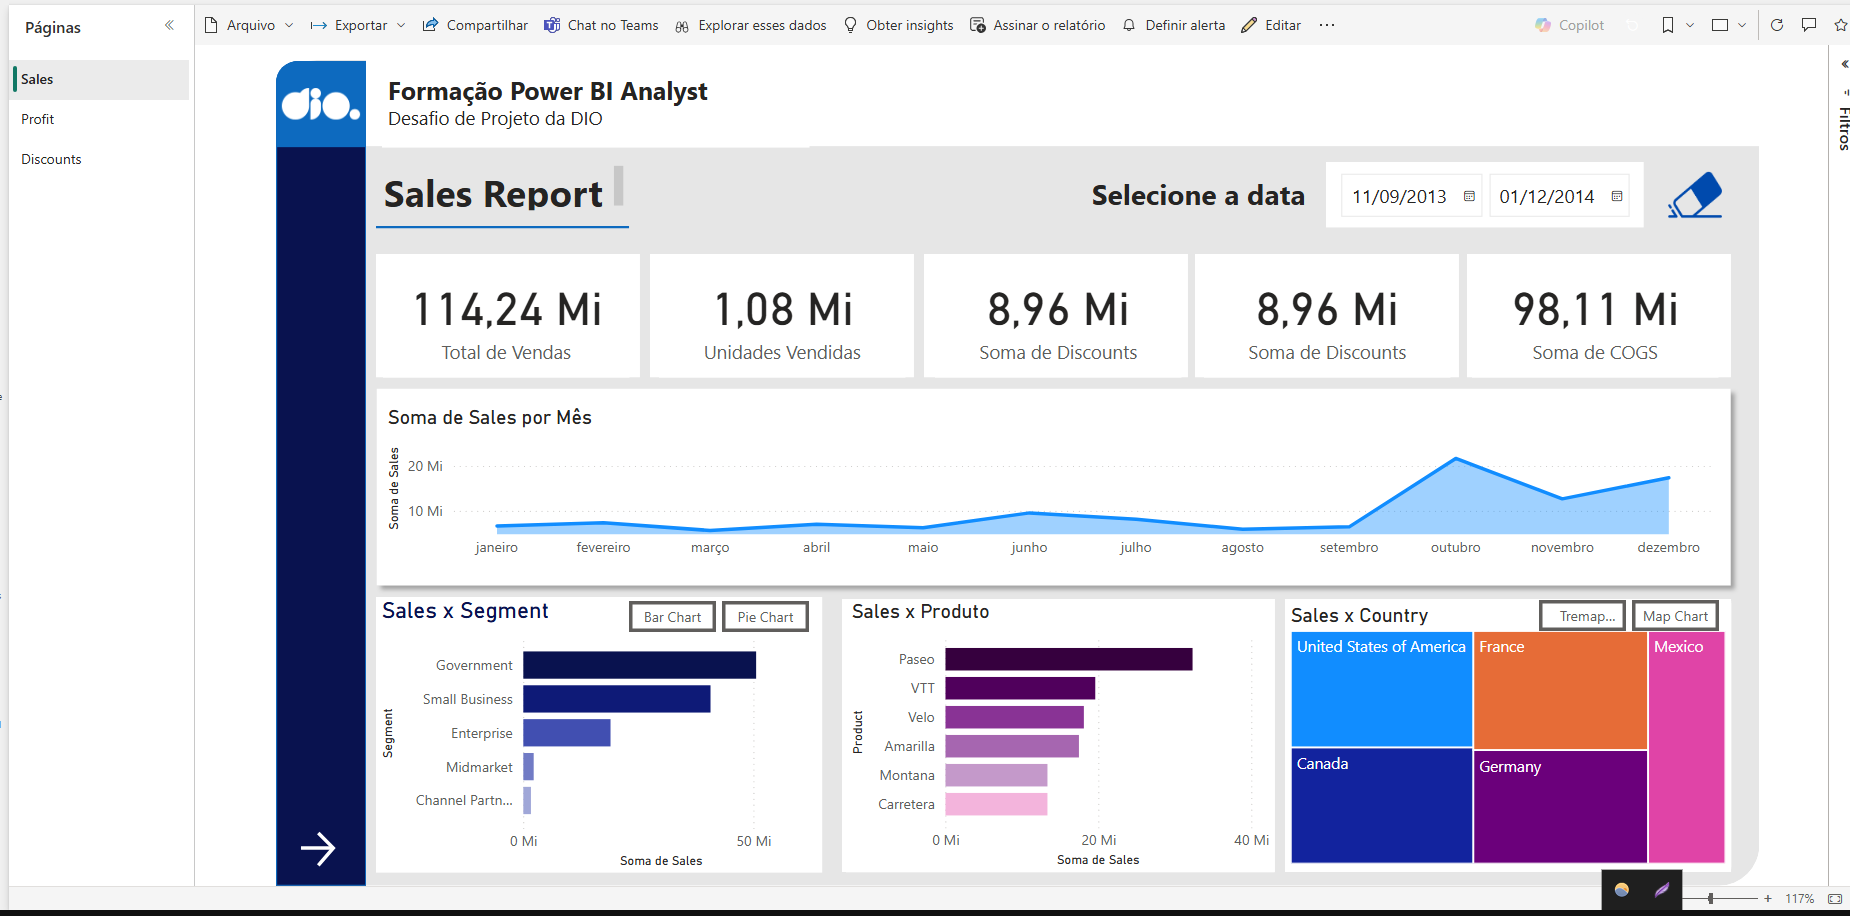

Layout of this report page (visuals, bound fields, positions):
{"tool":"powerbi","page":{"name":"Sales","canvas":[1280,720],"ordinal":0},"visuals":[{"type":"shape","box":[10,12.8,1270,707],"z":0},{"type":"slicer","fields":{"Values":["financials.Date"]},"box":[909.4,99.8,272.2,55.6],"z":0,"group":"g2"},{"type":"shape","box":[95.5,139.7,216.7,32.8],"z":0,"group":"g5"},{"type":"shape","box":[95.5,179.2,226.5,105.7],"z":0,"group":"g1"},{"type":"map","title":"Sales x Country","fields":{"Category":["financials.Country"],"Size":["Sum(financials. Sales)"]},"box":[873.8,476,382,228.1],"z":0,"group":"g3"},{"type":"clusteredBarChart","title":"Sales x Segment","fields":{"Category":["financials.Segment"],"Y":["Sum(financials. Sales)"]},"box":[96,472.4,382.5,236.2],"z":250,"group":"g4"},{"type":"actionButton","title":"Botão - bar","box":[312.8,476.4,74.5,26.6],"z":500,"group":"g4"},{"type":"actionButton","title":"Botão -pie","box":[392.6,476.4,74.5,26.6],"z":750,"group":"g4"},{"type":"shape","box":[10.1,13.4,77.2,706.3],"z":1000},{"type":"textbox","box":[96.9,98.4,215.2,48.5],"z":1000,"group":"g5"},{"type":"textbox","box":[704.1,105.5,199.6,45.6],"z":1000,"group":"g2"},{"type":"shape","box":[330.2,179.2,226.5,105.7],"z":1000,"group":"g1"},{"type":"treemap","title":"Sales x Country","fields":{"Group":["financials.Country"],"Values":["Sum(financials. Sales)"]},"box":[873.8,477.5,382,228.1],"z":1000,"group":"g3"},{"type":"actionButton","title":"Botão - map","box":[1170.8,475.2,74.5,26.6],"z":1250,"group":"g3"},{"type":"actionButton","title":"Botão - tremap","box":[1090.9,475.2,74.5,26.6],"z":1500,"group":"g3"},{"type":"shape","box":[10.1,13.4,77.2,73.8],"z":2000},{"type":"actionButton","box":[1195.9,104.1,59.9,51.3],"z":2000,"group":"g2"},{"type":"shape","box":[565.1,179.2,226.5,105.7],"z":2000,"group":"g1"},{"type":"image","title":"logo_dio","box":[10.1,18.5,77.2,62.1],"z":3000},{"type":"image","title":"clean","box":[1195.9,99.8,59.9,55.6],"z":3000,"group":"g2"},{"type":"shape","box":[796.6,179.2,226.5,105.7],"z":3000,"group":"g1"},{"type":"shape","box":[86.9,12.8,1193.1,74.1],"z":4000},{"type":"shape","box":[1029.7,179.2,226.5,105.7],"z":4000,"group":"g1"},{"type":"textbox","box":[100.7,18.5,365.7,68.8],"z":5000},{"type":"card","fields":{"Values":["Sum(financials. Sales)"]},"box":[101.2,179.6,211,105.5],"z":5000,"group":"g1"},{"type":"group","id":"g1","title":"Cartões","box":[95.5,179.2,1160.7,105.9],"z":6000},{"type":"card","fields":{"Values":["Sum(financials.Units Sold)"]},"box":[337.9,179.6,211,105.5],"z":6000,"group":"g1"},{"type":"card","fields":{"Values":["Sum(financials.Discounts)"]},"box":[804,179.6,211,105.5],"z":7000,"group":"g1"},{"type":"shape","box":[86.9,285.1,1177.4,186.7],"z":7000},{"type":"card","fields":{"Values":["Sum(financials.Discounts)"]},"box":[574.5,179.6,211,105.5],"z":8000,"group":"g1"},{"type":"shape","box":[494.6,474.7,370.6,233.8],"z":8000},{"type":"card","fields":{"Values":["Sum(financials.COGS)"]},"box":[1033.4,179.6,211,105.5],"z":9000,"group":"g1"},{"type":"shape","box":[873.8,474.7,382,233.8],"z":9000},{"type":"areaChart","fields":{"Category":["financials.Date.Variation.Hierarquia de datas.Mês"],"Y":["Sum(financials. Sales)"]},"box":[101.2,307.9,1143.2,139.7],"z":10000},{"type":"clusteredBarChart","title":"Sales x Produto","fields":{"Y":["Sum(financials. Sales)"],"Category":["financials.Product"]},"box":[498.3,474.5,366.9,233.8],"z":11000},{"type":"group","id":"g2","title":"Filtro por data","box":[704.1,99.8,551.6,55.6],"z":12000},{"type":"group","id":"g3","title":"Sales x país","box":[873.8,475.2,382,230.3],"z":13000},{"type":"group","id":"g4","title":"Sales x Segmento","box":[96,471.8,382.9,236.8],"z":14000},{"type":"group","id":"g5","title":"Title report","box":[95.5,98.4,216.7,74.1],"z":15000},{"type":"actionButton","box":[25.9,669,48.8,39.6],"z":16000}]}

Visuals, with their boxes on the page's 1280x720 design canvas (x1, y1, x2, y2). These are canvas units, not pixel positions in the 1850x916 screenshot, which may show the page scaled, cropped or inside an application window:
shape: bbox(10, 13, 1280, 720)
slicer - financials.Date: bbox(909, 100, 1182, 155)
shape: bbox(96, 140, 312, 172)
shape: bbox(96, 179, 322, 285)
"Sales x Country" map: bbox(874, 476, 1256, 704)
"Sales x Segment" clusteredBarChart: bbox(96, 472, 478, 709)
"Botão - bar" actionButton: bbox(313, 476, 387, 503)
"Botão -pie" actionButton: bbox(393, 476, 467, 503)
shape: bbox(10, 13, 87, 720)
textbox: bbox(97, 98, 312, 147)
textbox: bbox(704, 106, 904, 151)
shape: bbox(330, 179, 557, 285)
"Sales x Country" treemap: bbox(874, 478, 1256, 706)
"Botão - map" actionButton: bbox(1171, 475, 1245, 502)
"Botão - tremap" actionButton: bbox(1091, 475, 1165, 502)
shape: bbox(10, 13, 87, 87)
actionButton: bbox(1196, 104, 1256, 155)
shape: bbox(565, 179, 792, 285)
"logo_dio" image: bbox(10, 18, 87, 81)
"clean" image: bbox(1196, 100, 1256, 155)
shape: bbox(797, 179, 1023, 285)
shape: bbox(87, 13, 1280, 87)
shape: bbox(1030, 179, 1256, 285)
textbox: bbox(101, 18, 466, 87)
card - Sum(financials. Sales): bbox(101, 180, 312, 285)
"Cartões" group: bbox(96, 179, 1256, 285)
card - Sum(financials.Units Sold): bbox(338, 180, 549, 285)
card - Sum(financials.Discounts): bbox(804, 180, 1015, 285)
shape: bbox(87, 285, 1264, 472)
card - Sum(financials.Discounts): bbox(574, 180, 786, 285)
shape: bbox(495, 475, 865, 708)
card - Sum(financials.COGS): bbox(1033, 180, 1244, 285)
shape: bbox(874, 475, 1256, 708)
areaChart - financials.Date.Variation.Hierarquia de datas.Mês x Sum(financials. Sales): bbox(101, 308, 1244, 448)
"Sales x Produto" clusteredBarChart: bbox(498, 474, 865, 708)
"Filtro por data" group: bbox(704, 100, 1256, 155)
"Sales x país" group: bbox(874, 475, 1256, 706)
"Sales x Segmento" group: bbox(96, 472, 479, 709)
"Title report" group: bbox(96, 98, 312, 172)
actionButton: bbox(26, 669, 75, 709)
